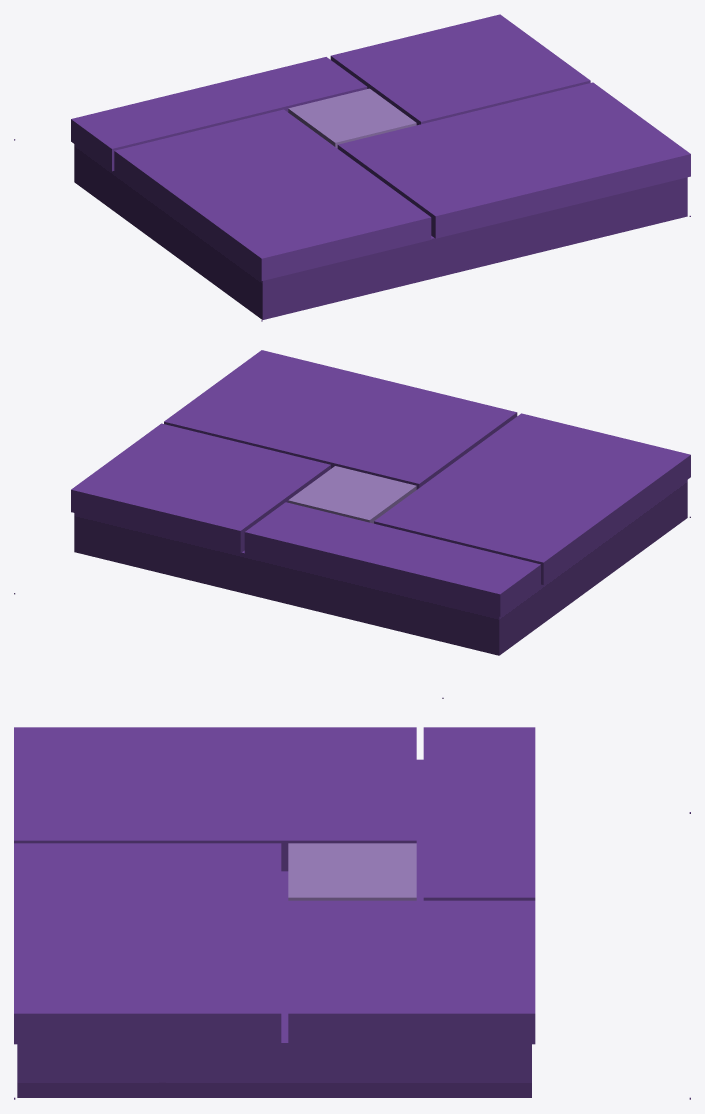
The model's file is floor_crystal_tee.glb.
3 renders of one model, top to bottom at view 1: azimuth 30°, elevation 25°; view 2: azimuth 150°, elevation 25°; view 3: azimuth 270°, elevation 25°, orthographic. The views are drawn at different scales.
Bounding box in the file's own units: 1 × 0.14 × 1.
1 material, 1 textured.
